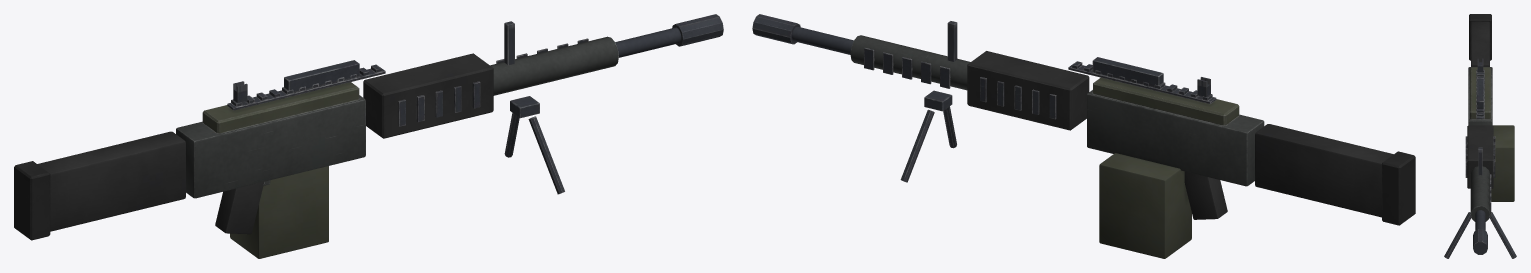
The model's file is weapon_lmg.glb.
3 renders of one model, left to right at view 1: azimuth 30°, elevation 25°; view 2: azimuth 150°, elevation 25°; view 3: azimuth 270°, elevation 25°, orthographic. The views are drawn at different scales.
Visible parts, largest first — view 1: Body, DefaultStock, DefaultMag, DefaultGrip, DefaultBarrel, DefaultMuzzle, IronSights; view 2: Body, DefaultStock, DefaultMag, DefaultGrip, DefaultBarrel, DefaultMuzzle, IronSights; view 3: Body, DefaultMag, DefaultStock, DefaultGrip, DefaultMuzzle, IronSights, DefaultBarrel.
Boxes of the visible parts, x1,y1,x2,y2 form: Body: [176, 36, 618, 234]; DefaultStock: [14, 131, 185, 240]; DefaultMag: [230, 166, 328, 258]; DefaultGrip: [504, 96, 564, 194]; DefaultBarrel: [615, 27, 681, 57]; DefaultMuzzle: [672, 14, 723, 46]; IronSights: [233, 21, 514, 102]; Body: [850, 35, 1264, 219]; DefaultStock: [1255, 124, 1415, 225]; DefaultMag: [1099, 153, 1191, 258]; DefaultGrip: [900, 90, 956, 182]; DefaultBarrel: [792, 26, 853, 54]; DefaultMuzzle: [752, 14, 800, 44]; IronSights: [947, 21, 1210, 97]; Body: [1465, 67, 1495, 221]; DefaultMag: [1491, 125, 1514, 201]; DefaultStock: [1469, 14, 1491, 66]; DefaultGrip: [1444, 212, 1516, 258]; DefaultMuzzle: [1473, 229, 1487, 254]; IronSights: [1477, 58, 1483, 175]; DefaultBarrel: [1475, 210, 1485, 230].
Size of the model in its own units: 1.37 by 0.334 by 0.1922.
Materials: 1 (1 with a texture image).
